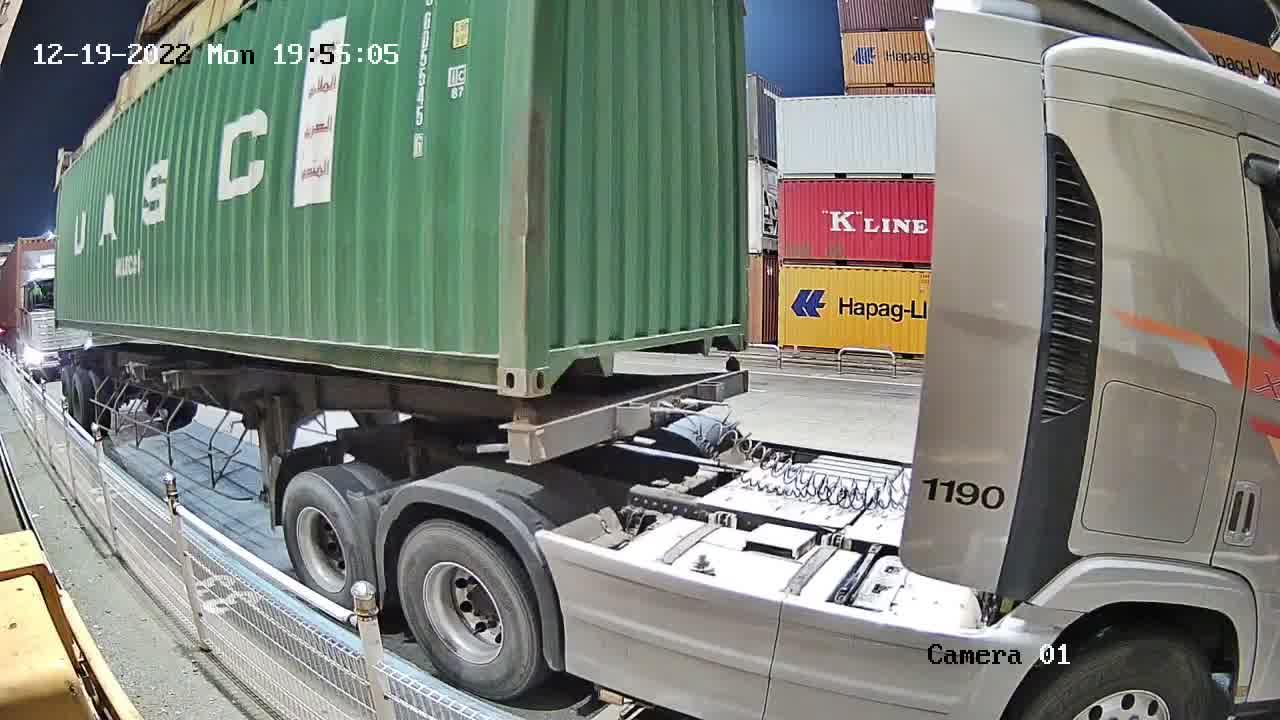Chassis: (499, 370, 746, 466)
Cone: (514, 406, 536, 461), (723, 357, 743, 373)
Hole_L: (526, 337, 574, 397)
Hole_R: (471, 332, 526, 397), (711, 301, 750, 353)
Tire: (397, 522, 532, 697), (282, 475, 364, 601)
